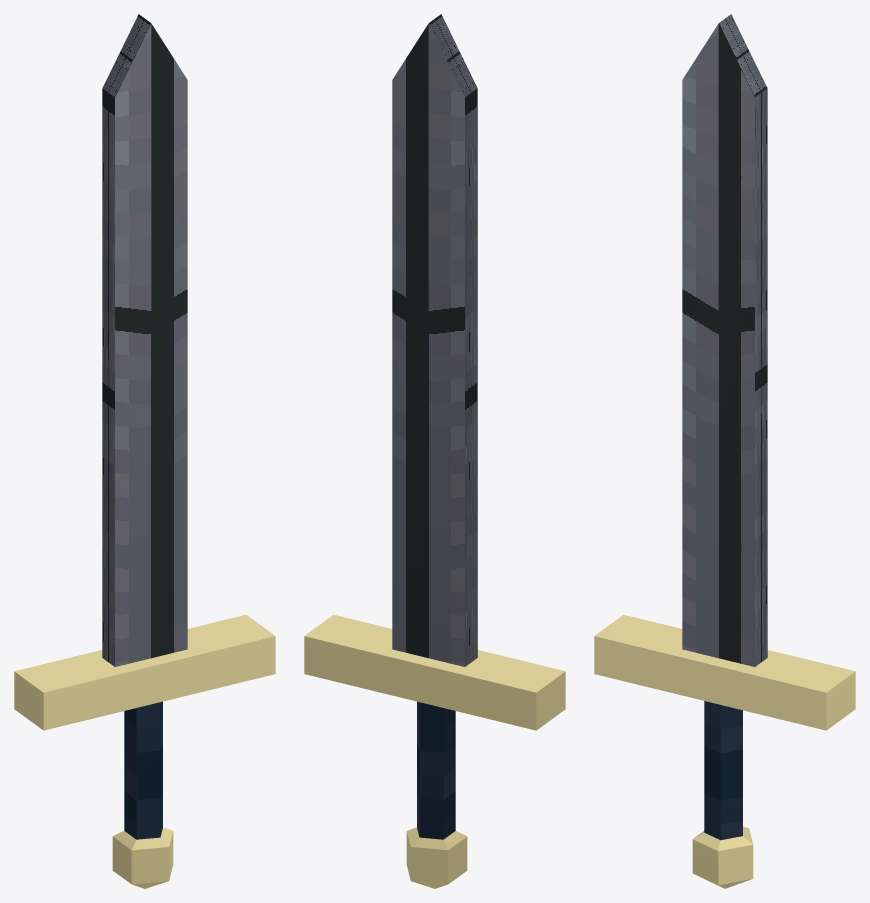
File: sword.glb
3 renders of one model, left to right at view 1: azimuth 30°, elevation 25°; view 2: azimuth 150°, elevation 25°; view 3: azimuth 330°, elevation 25°, orthographic.
Visible parts, largest first — view 1: sword; view 2: sword; view 3: sword.
Boxes of the visible parts, x1=… form: sword: x1=14, y1=14, x2=275, y2=888; sword: x1=304, y1=14, x2=565, y2=888; sword: x1=594, y1=14, x2=855, y2=888.
Bounding box in the file's own units: 0.32 × 1.15 × 0.0741.
Materials: 3 (2 with a texture image).
